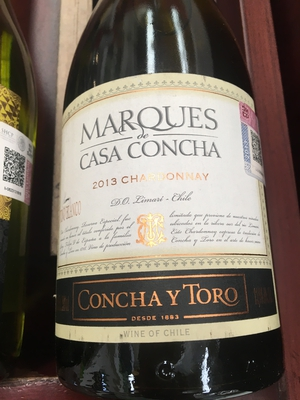marques de casa concha chardonnay: (59, 15, 297, 400)
